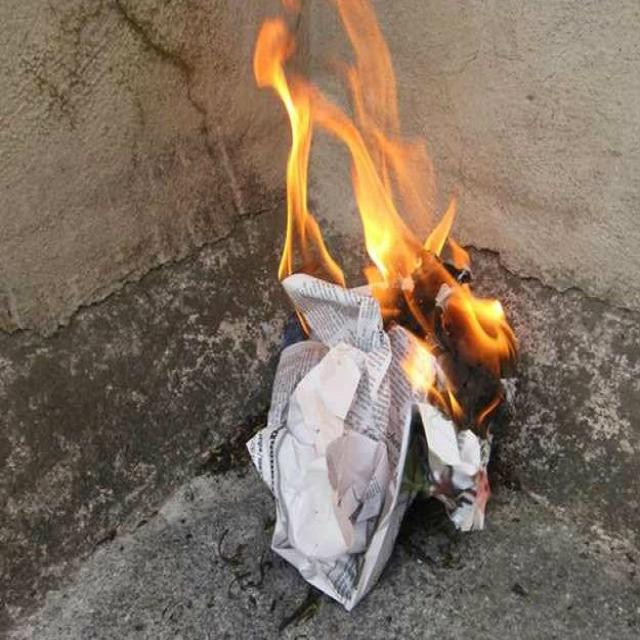fire: (252, 0, 516, 421)
